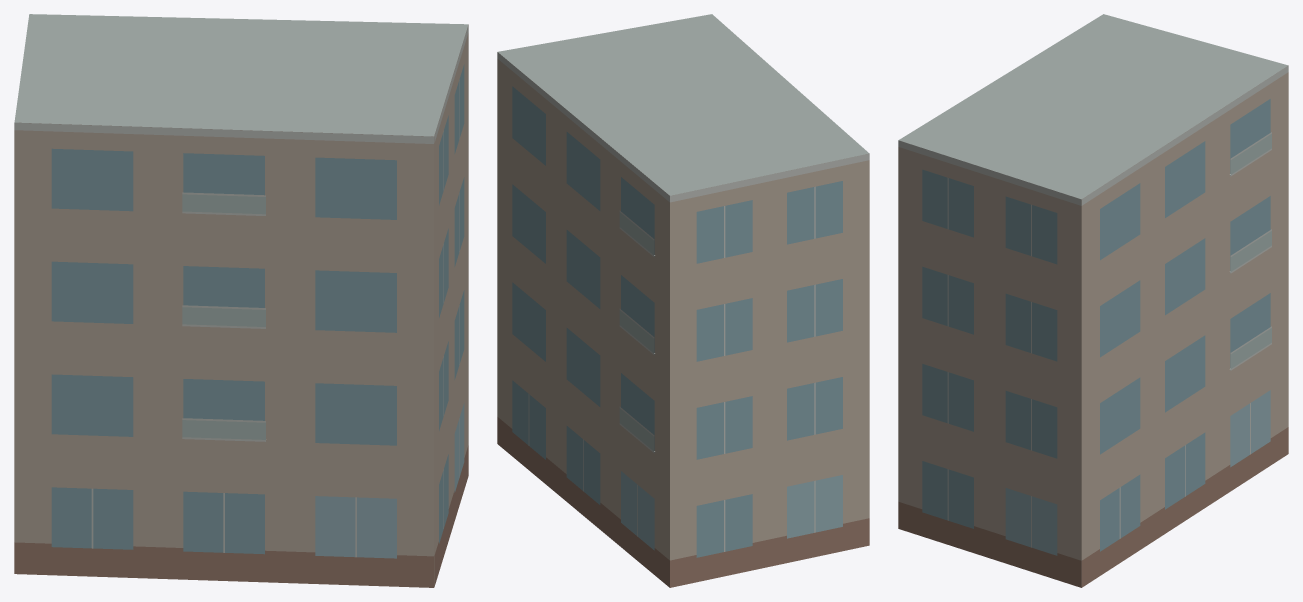
The model's file is survey-upis-33031152.glb.
3 views of the same model, side by side, from view 1: azimuth 30°, elevation 25°; view 2: azimuth 150°, elevation 25°; view 3: azimuth 270°, elevation 25° (orthographic). The views are drawn at different scales.
Visible parts, largest first — view 1: survey-upis-33031152.tmp; view 2: survey-upis-33031152.tmp; view 3: survey-upis-33031152.tmp.
Part boxes in pixels (x1=…): survey-upis-33031152.tmp: x1=14, y1=14, x2=468, y2=587; survey-upis-33031152.tmp: x1=497, y1=14, x2=869, y2=587; survey-upis-33031152.tmp: x1=898, y1=14, x2=1288, y2=587.
Bounding box in the file's own units: 14.74 × 14.4 × 13.12.
